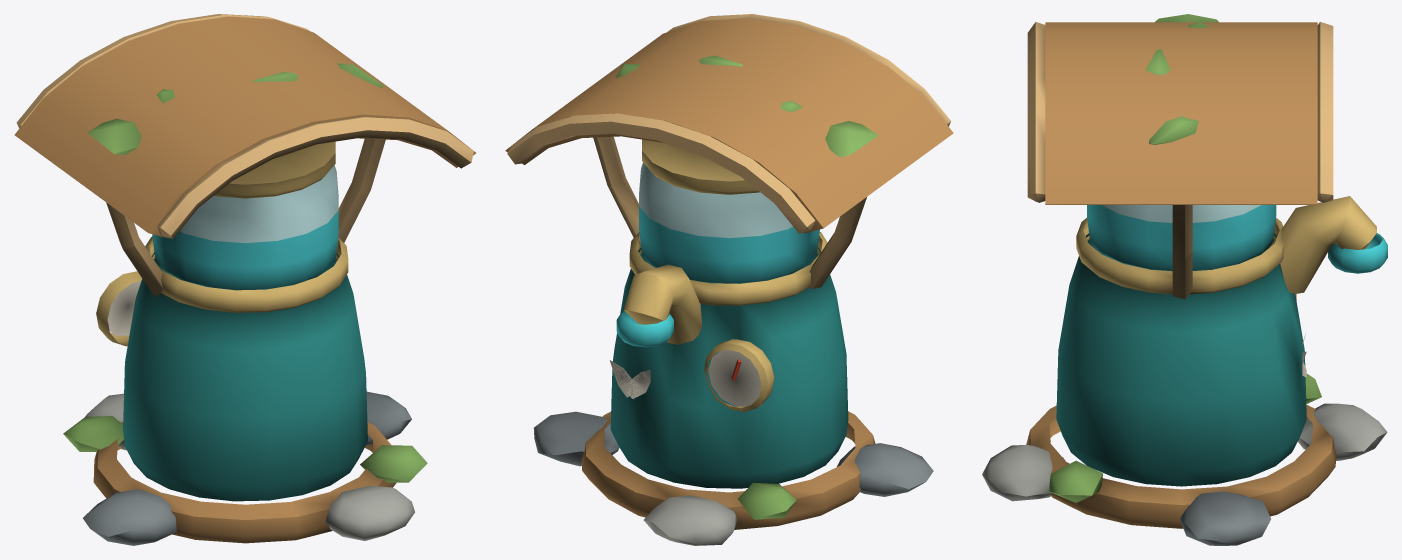
File: EDV2_ButtonStation.fbx
3 renders of one model, left to right at view 1: azimuth 30°, elevation 25°; view 2: azimuth 150°, elevation 25°; view 3: azimuth 270°, elevation 25°, orthographic. The views are drawn at different scales.
Visible parts, largest first — view 1: Roof.001, Body.006, Base.004, Tank.001, Hardware.008, Moss.006, Gauge.002; view 2: Roof.001, Body.006, Base.004, Tank.001, Hardware.008, Spout.002, Moss.006, Gauge.002; view 3: Roof.001, Body.006, Base.004, Tank.001, Spout.002, Hardware.008, Moss.006.
Part boxes in pixels (left/top/right/bottom): Roof.001: left=14, top=14, right=476, bottom=296; Body.006: left=123, top=252, right=367, bottom=501; Base.004: left=83, top=391, right=414, bottom=545; Tank.001: left=152, top=165, right=338, bottom=289; Hardware.008: left=96, top=141, right=348, bottom=346; Moss.006: left=63, top=63, right=427, bottom=482; Gauge.002: left=107, top=281, right=141, bottom=335; Roof.001: left=505, top=14, right=953, bottom=288; Body.006: left=610, top=247, right=848, bottom=488; Base.004: left=533, top=411, right=933, bottom=545; Tank.001: left=639, top=162, right=819, bottom=283; Hardware.008: left=609, top=139, right=827, bottom=412; Spout.002: left=616, top=264, right=702, bottom=347; Moss.006: left=615, top=55, right=878, bottom=519; Gauge.002: left=708, top=349, right=761, bottom=406; Roof.001: left=1027, top=22, right=1333, bottom=299; Body.006: left=1056, top=233, right=1306, bottom=486; Base.004: left=982, top=403, right=1387, bottom=545; Tank.001: left=1087, top=205, right=1276, bottom=270; Spout.002: left=1269, top=196, right=1387, bottom=293; Hardware.008: left=1076, top=218, right=1306, bottom=377; Moss.006: left=1049, top=14, right=1321, bottom=502.
Size of the model in its own units: 0.2111 by 0.2333 by 0.2026.
